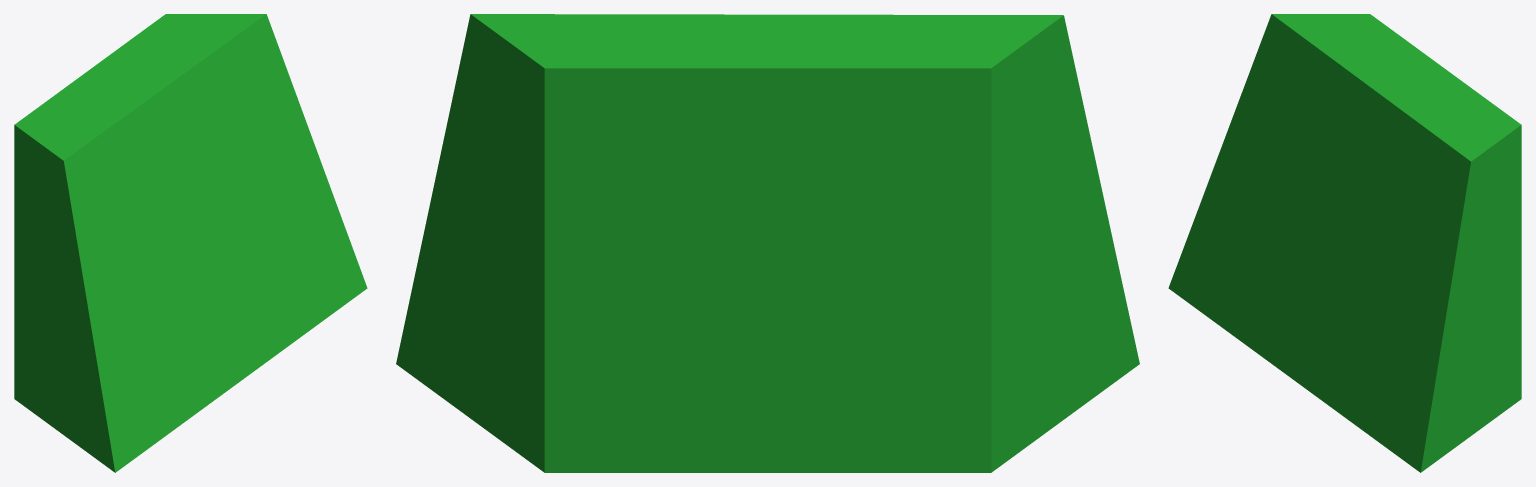
Rendered from cliff-small_corner.glb.
The picture shows the model from 3 angles, left to right: view 1: azimuth 30°, elevation 25°; view 2: azimuth 150°, elevation 25°; view 3: azimuth 270°, elevation 25°; orthographic projection. The views are drawn at different scales.
Visible parts, largest first — view 1: cliff-small_corner; view 2: cliff-small_corner; view 3: cliff-small_corner.
Part boxes in pixels (x1,y1,x2,y2): cliff-small_corner: (14, 14, 367, 472); cliff-small_corner: (396, 14, 1139, 472); cliff-small_corner: (1168, 14, 1521, 472).
Bounding box in the file's own units: 0.7217 × 0.5 × 0.5833.
